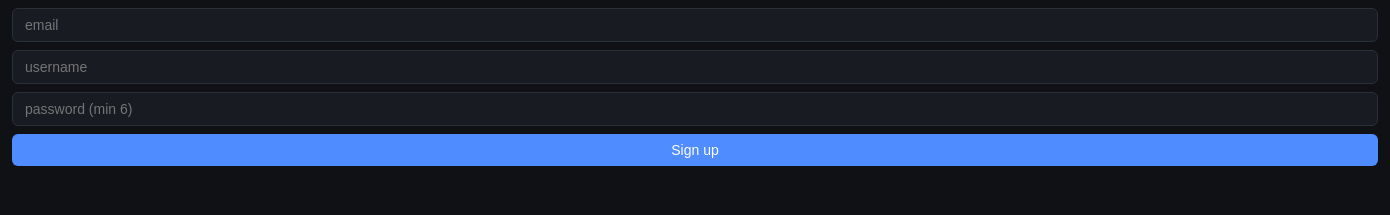
SignupForm › rejects invalid username format
Step 1. Type "a@x.com" into the field with placeholder "email" → (695, 25), box 12,8 -> 1378,42
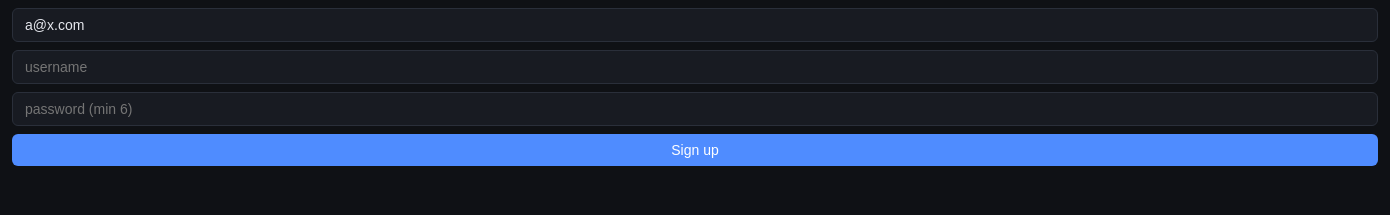
Step 2. Type "ab" into the field with placeholder "username" → (695, 67), box 12,50 -> 1378,84
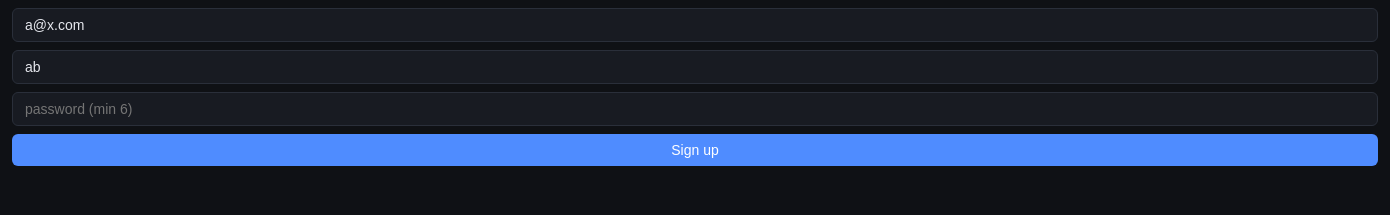
Step 3. Type "secret1" into the password field with placeholder "password (min 6)" → (695, 109), box 12,92 -> 1378,126
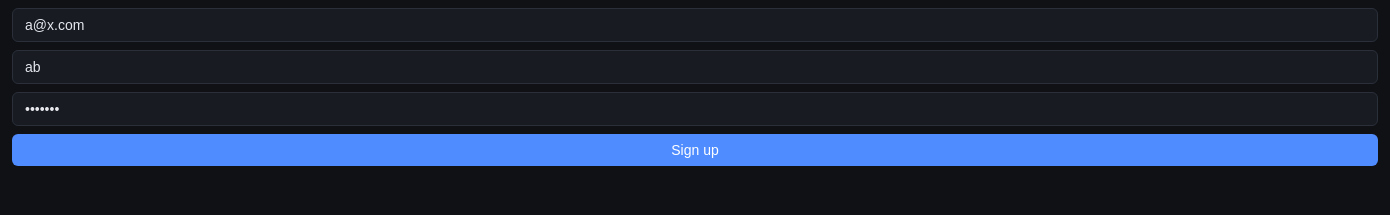
Step 4. Click the button "Sign up" → (695, 150), box 12,134 -> 1378,166
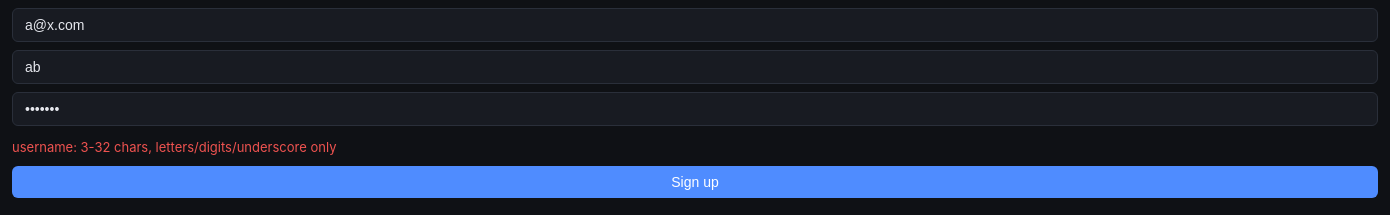
Expected: the text "username: 3-32 chars, letters/digits/underscore only" is shown, 12,139 -> 336,155
